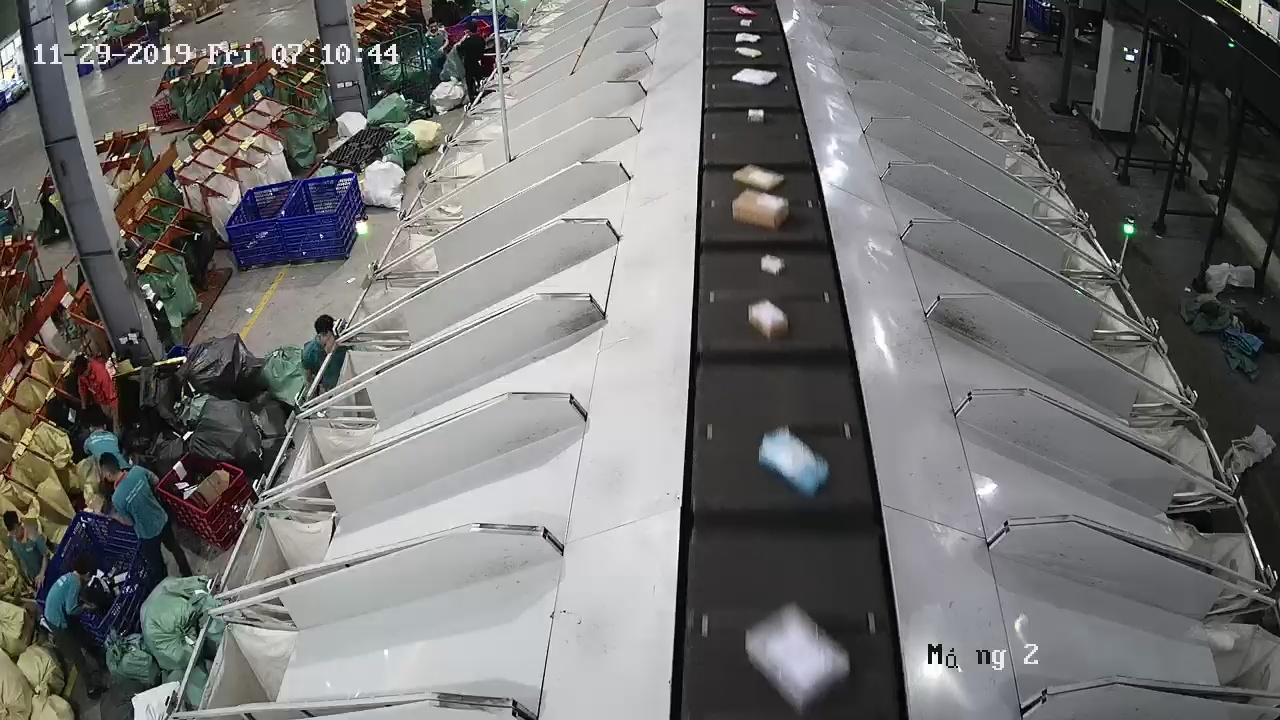parcel: (744, 603, 852, 717), (756, 424, 831, 499), (731, 192, 789, 231), (748, 300, 789, 340), (732, 164, 785, 191), (760, 252, 786, 277)
